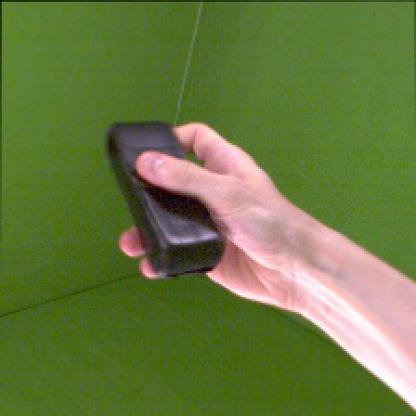Hand: (119, 120, 298, 312)
